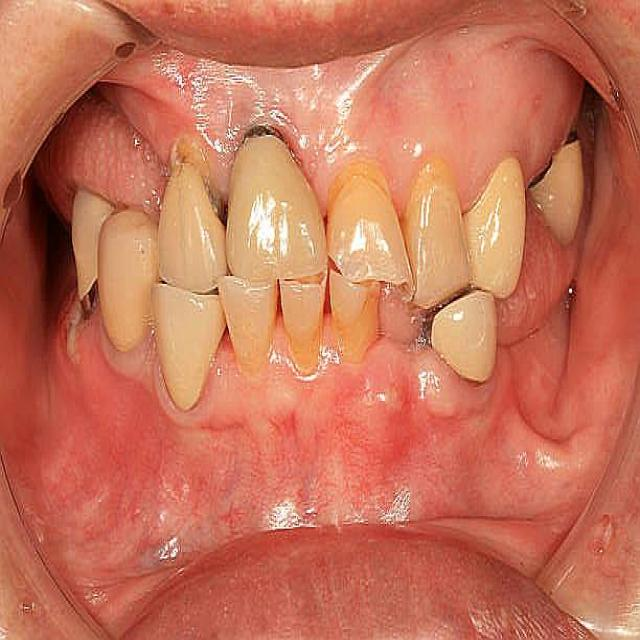caries: (53, 287, 101, 378)
